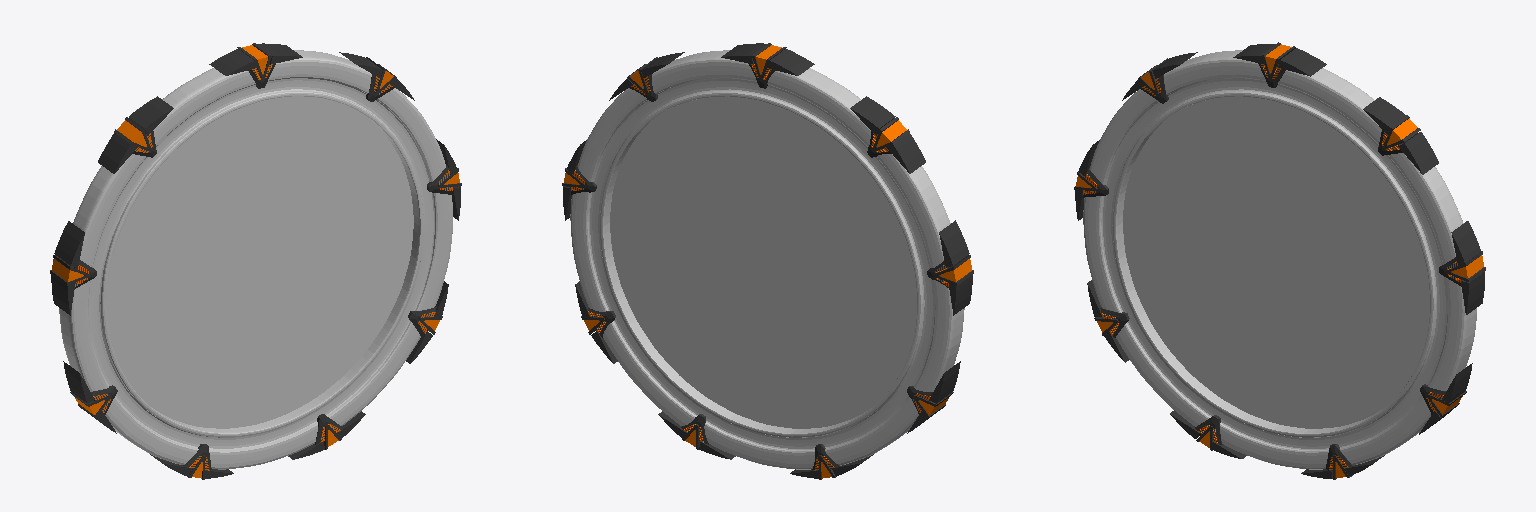
File: stargate.obj
The picture shows the model from 3 angles: view 1: azimuth 30°, elevation 25°; view 2: azimuth 150°, elevation 25°; view 3: azimuth 330°, elevation 25°; orthographic projection.
Parts seen in each view (by area): view 1: Cylinder.002, Cylinder.003, Cube.040_Cube.044, Cube.044_Cube.048, Cube.068_Cube.072, Cube.036_Cube.040, Cube.056_Cube.060, Cube.064_Cube.068, Cube.052_Cube.056; view 2: Cylinder.002, Cylinder.003, Cube.040_Cube.044, Cube.044_Cube.048, Cube.068_Cube.072, Cube.036_Cube.040, Cube.064_Cube.068; view 3: Cylinder.002, Cylinder.003, Cube.064_Cube.068, Cube.060_Cube.064, Cube.068_Cube.072, Cube.056_Cube.060, Cube.040_Cube.044, Cube.048_Cube.052, Cube.036_Cube.040.
Part boxes in pixels (bbox=[...]): Cylinder.002: bbox=[106, 96, 413, 428]; Cylinder.003: bbox=[59, 50, 452, 469]; Cube.040_Cube.044: bbox=[98, 96, 173, 173]; Cube.044_Cube.048: bbox=[51, 221, 84, 315]; Cube.068_Cube.072: bbox=[209, 43, 302, 75]; Cube.036_Cube.040: bbox=[63, 361, 116, 433]; Cube.056_Cube.060: bbox=[406, 281, 448, 363]; Cube.064_Cube.068: bbox=[339, 52, 414, 100]; Cube.052_Cube.056: bbox=[288, 411, 365, 459]; Cylinder.002: bbox=[610, 96, 916, 428]; Cylinder.003: bbox=[570, 50, 964, 469]; Cube.040_Cube.044: bbox=[850, 96, 925, 173]; Cube.044_Cube.048: bbox=[939, 220, 972, 315]; Cube.068_Cube.072: bbox=[721, 43, 814, 75]; Cube.036_Cube.040: bbox=[907, 361, 960, 433]; Cube.064_Cube.068: bbox=[609, 52, 684, 100]; Cylinder.002: bbox=[1123, 96, 1429, 428]; Cylinder.003: bbox=[1083, 50, 1476, 469]; Cube.064_Cube.068: bbox=[1363, 97, 1438, 174]; Cube.060_Cube.064: bbox=[1451, 221, 1484, 314]; Cube.068_Cube.072: bbox=[1233, 44, 1326, 76]; Cube.056_Cube.060: bbox=[1419, 363, 1472, 434]; Cube.040_Cube.044: bbox=[1122, 52, 1197, 100]; Cube.048_Cube.052: bbox=[1170, 410, 1246, 458]; Cube.036_Cube.040: bbox=[1087, 280, 1129, 362].
Size of the model in its own units: 2.05 by 2.03 by 0.1529.